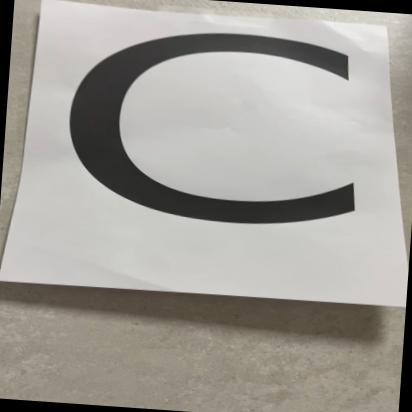seat: (14, 0, 406, 308)
